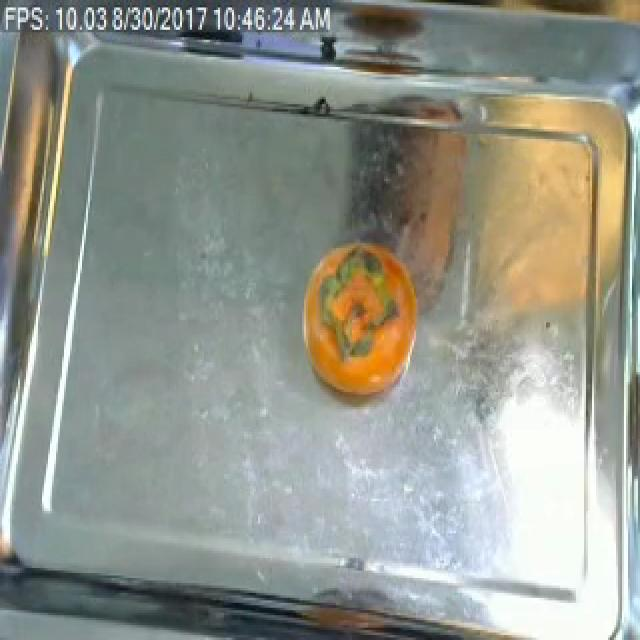Fruit: (430, 119, 606, 412), (304, 236, 424, 399)
